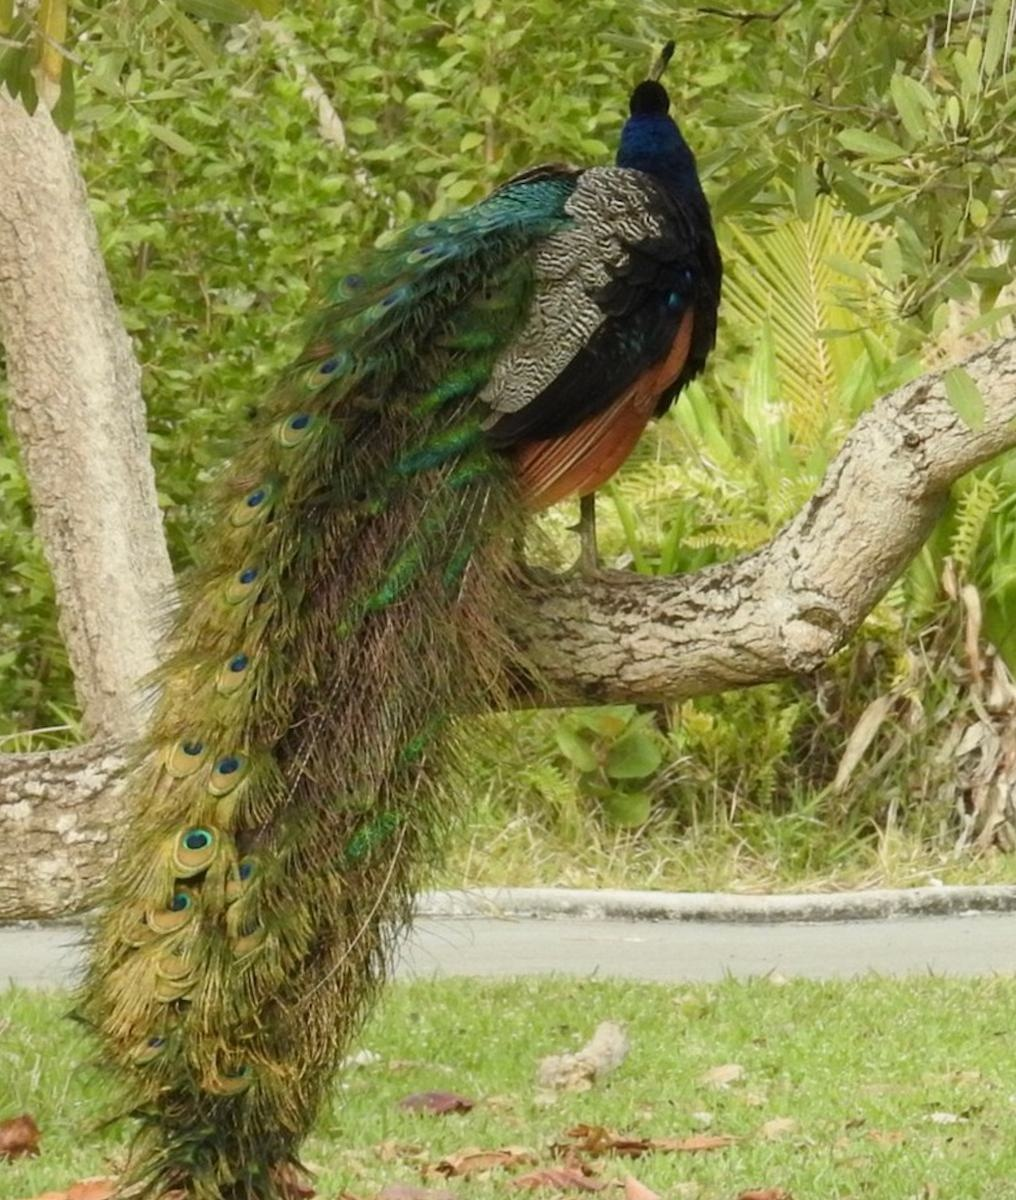peacock: (1, 63, 718, 1144)
